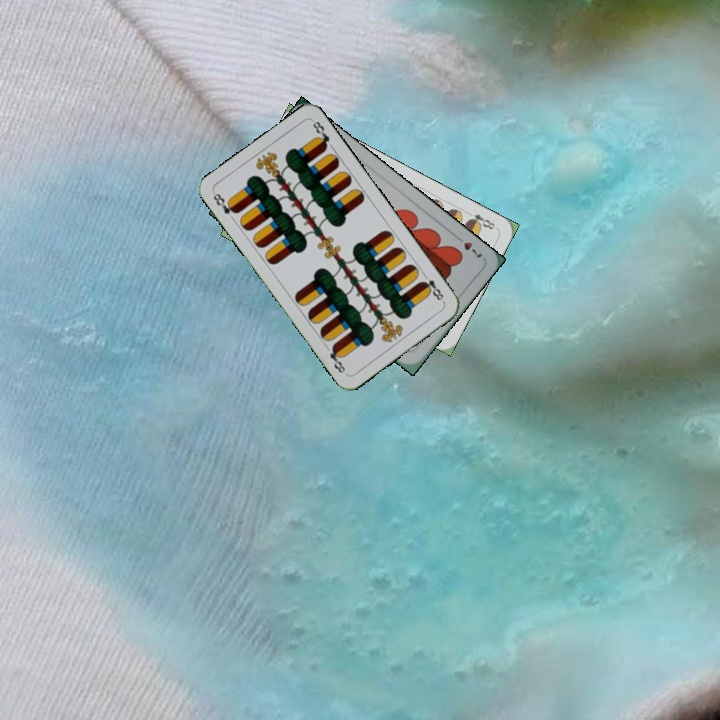E8: (417, 269, 447, 305), (462, 207, 499, 232), (209, 189, 241, 217)
H7: (451, 231, 485, 262)
